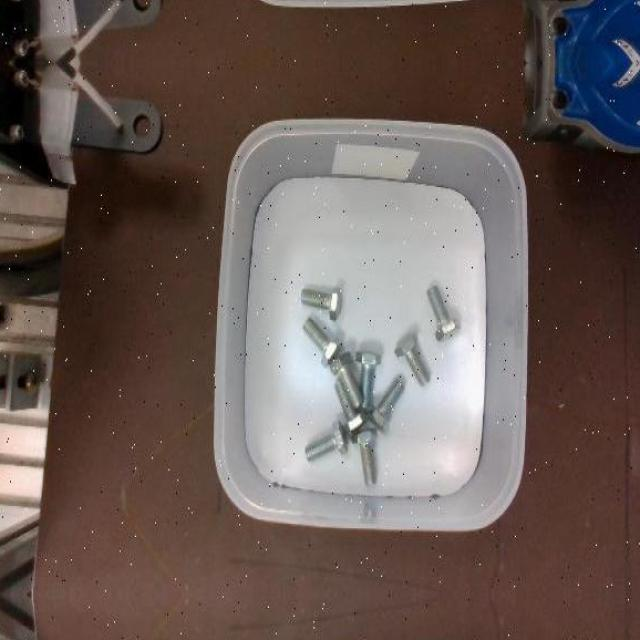screw: (366, 378, 406, 433), (301, 317, 343, 368), (394, 331, 431, 386), (304, 417, 348, 462), (426, 284, 461, 340), (330, 352, 363, 410), (348, 427, 378, 488), (301, 287, 342, 322)
